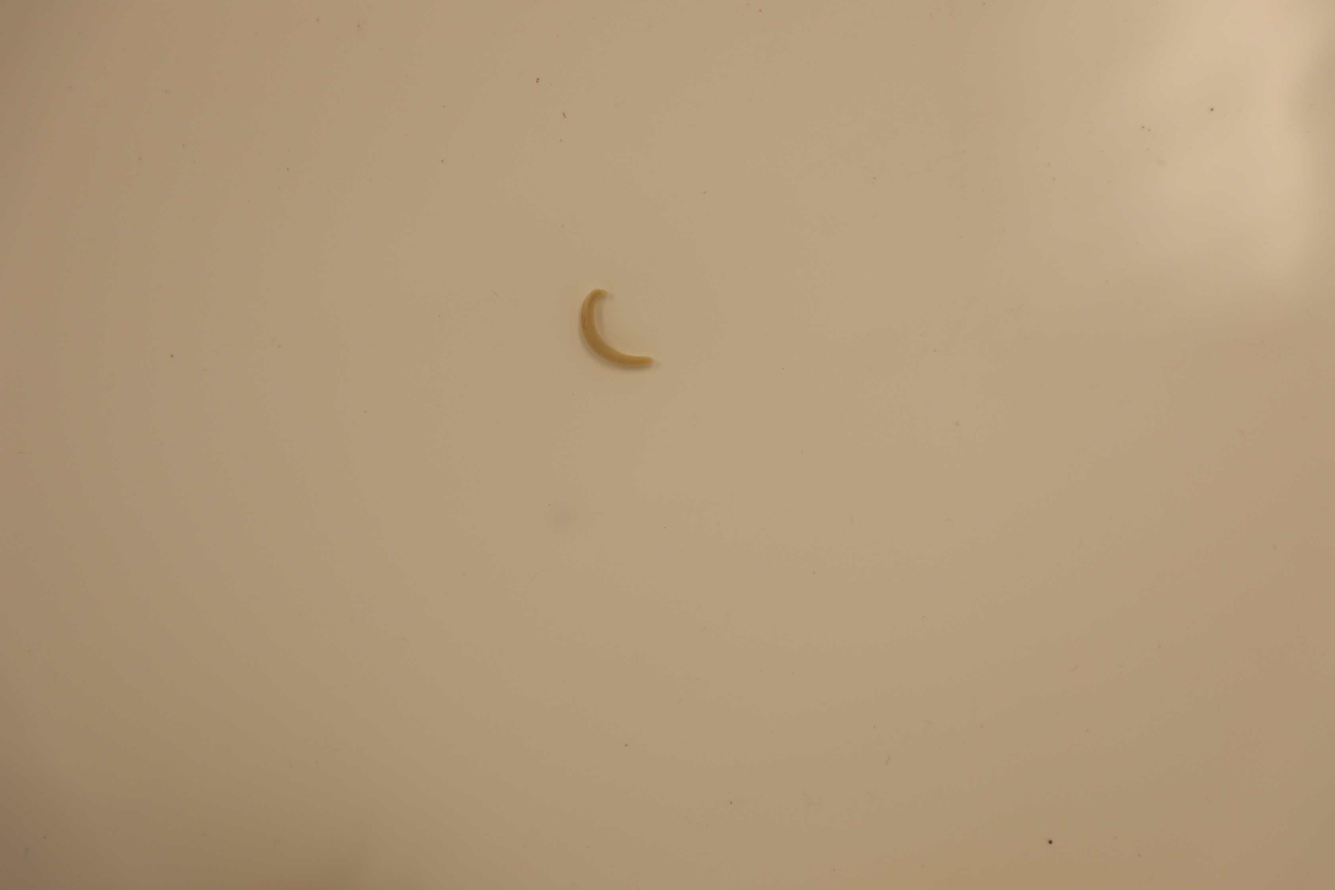Cadisfly: (580, 286, 654, 373)
